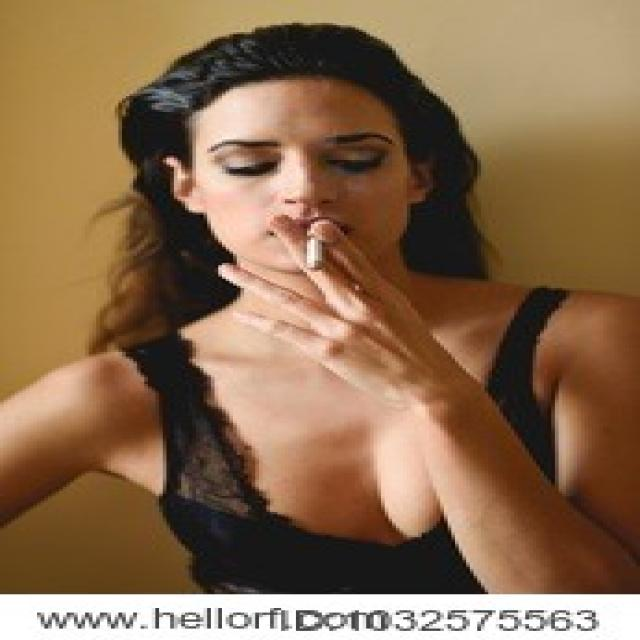cigarette: (294, 228, 344, 278)
